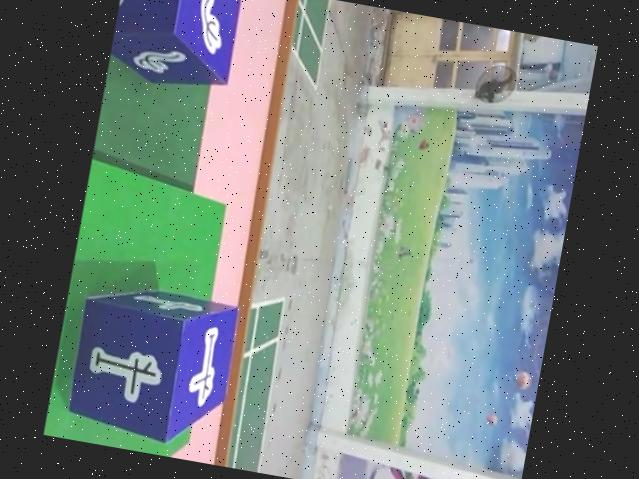R2 Real Blue: (58, 272, 241, 446), (106, 0, 241, 91)
